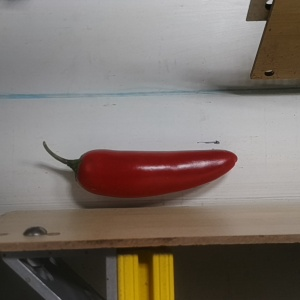Cut Point: (65, 149, 98, 193)
